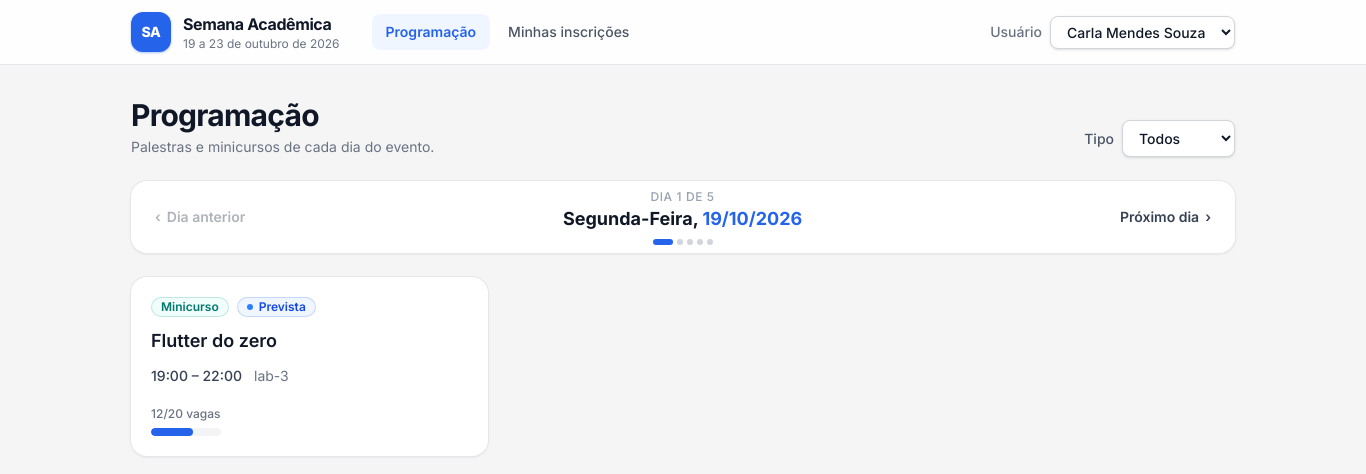
Scenario: App — M2 › participante abre Minhas inscrições pela navegação
Click the button "Minhas inscrições". click: click(569, 32)
box: [494, 14, 643, 50]
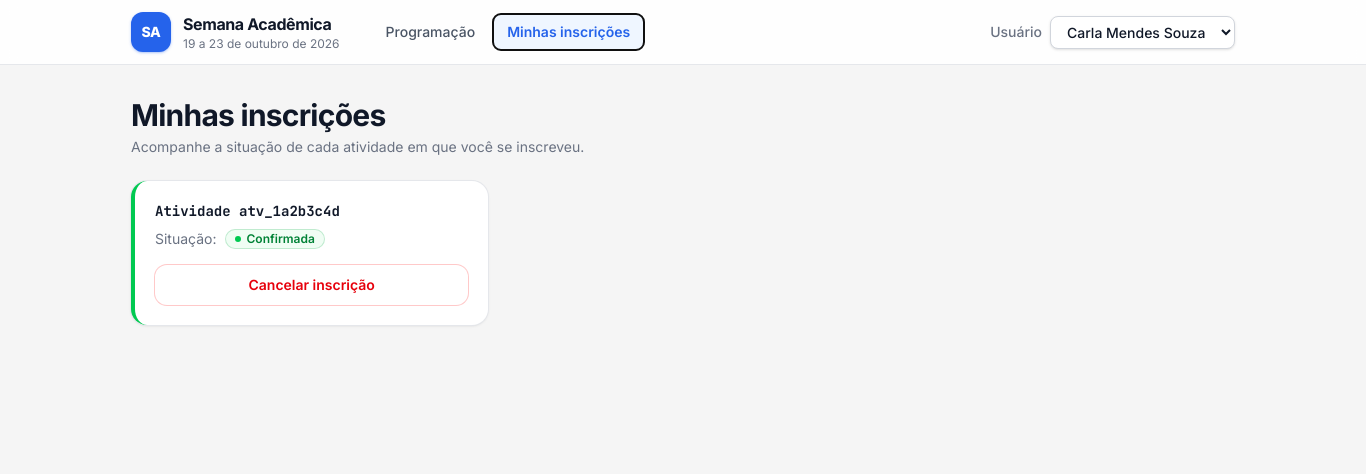
Now the heading "Minhas inscrições" is shown, box [131, 97, 386, 133]
Now the text "Atividade atv_1a2b3c4d" is shown, box [155, 202, 340, 220]
